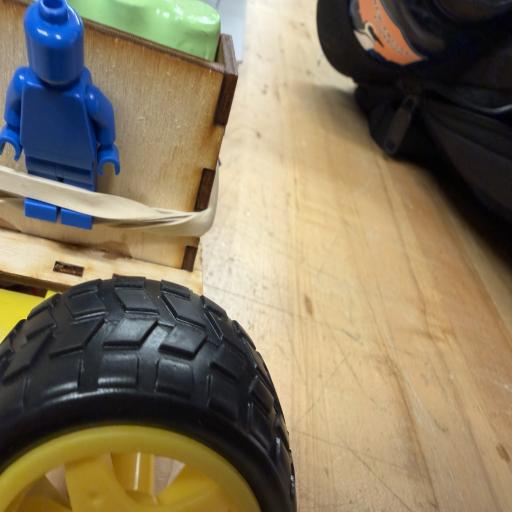Blue-Lego: (0, 0, 120, 191), (24, 197, 94, 229)
